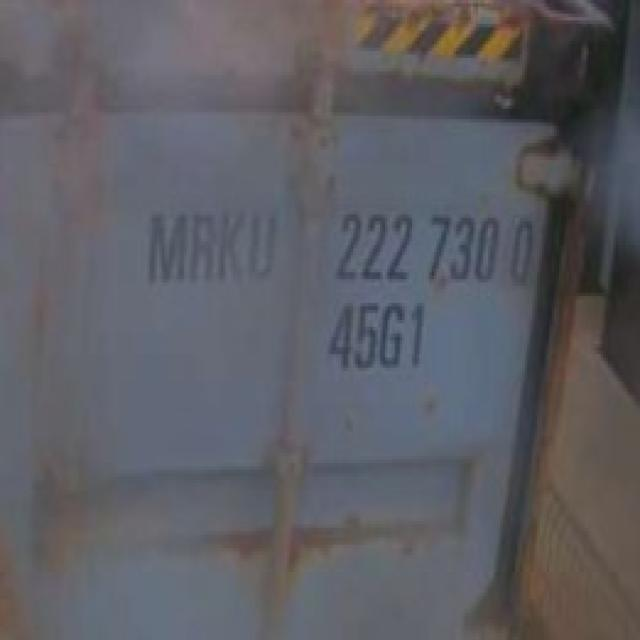dv: (505, 206, 539, 288)
owner: (140, 203, 280, 291)
serial: (332, 202, 500, 291)
size: (324, 296, 428, 376)
